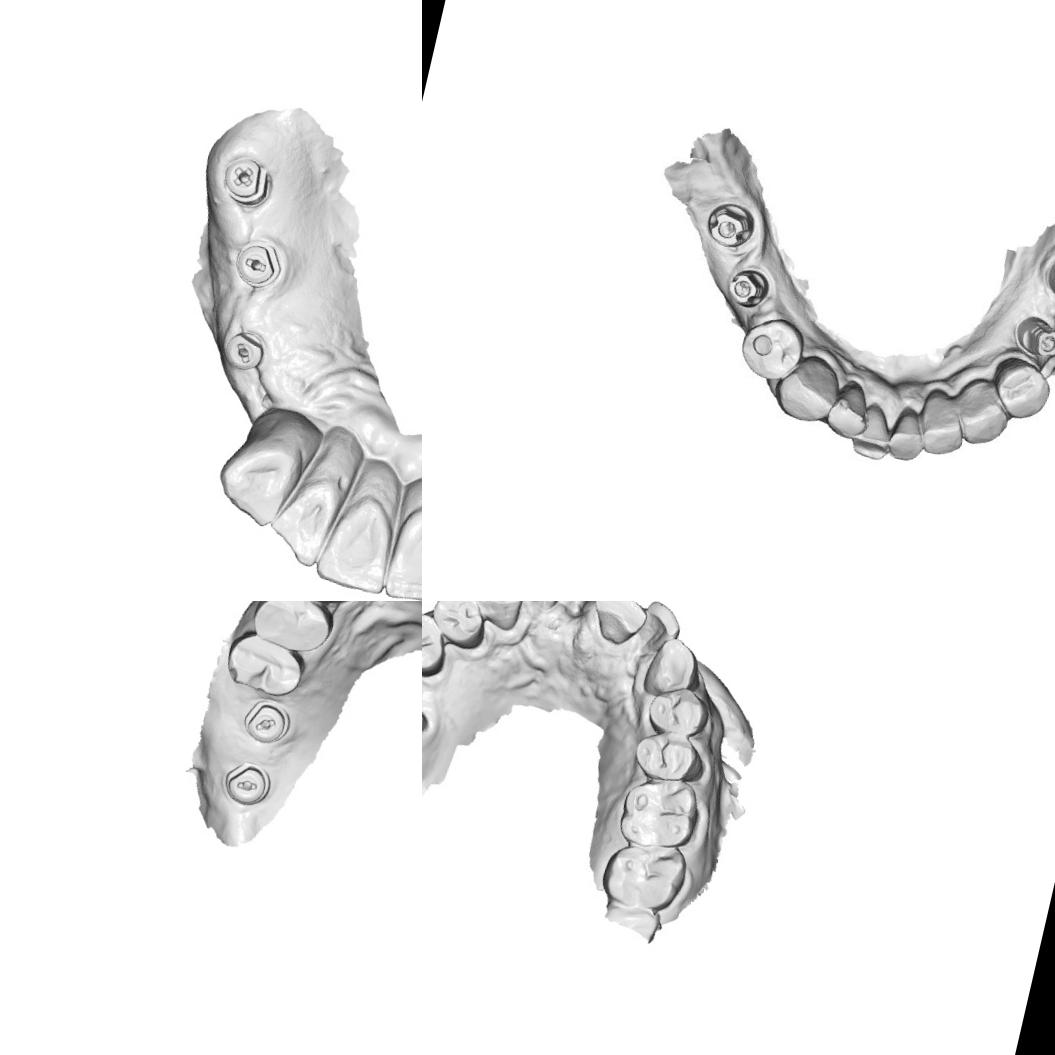canine: (206, 418, 302, 534), (774, 353, 842, 425), (955, 380, 1019, 452), (640, 631, 704, 703), (469, 601, 529, 634)
implant: (698, 190, 764, 261), (716, 259, 778, 319), (1013, 308, 1055, 367), (1037, 246, 1055, 317)
implant_minus: (225, 232, 287, 296), (235, 693, 296, 749), (217, 758, 272, 808), (220, 324, 270, 374)
implant_plus: (217, 152, 278, 209)
incisor: (307, 490, 403, 600), (261, 468, 343, 572), (379, 497, 422, 601), (918, 390, 970, 453), (586, 601, 651, 651), (634, 601, 686, 661), (851, 402, 896, 458), (828, 382, 874, 436), (890, 407, 929, 458), (511, 601, 568, 616)
molar: (596, 832, 692, 918), (612, 770, 704, 858)
premolar: (219, 628, 310, 702), (628, 724, 710, 790), (245, 601, 339, 657), (641, 680, 714, 747), (736, 315, 805, 382), (991, 355, 1055, 422), (424, 601, 492, 653), (422, 606, 454, 681)
